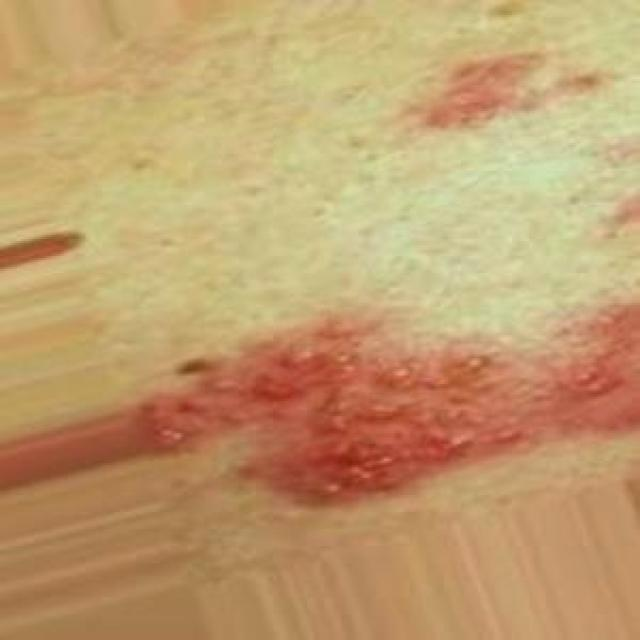Shingles: (134, 302, 640, 504), (402, 47, 570, 147)
